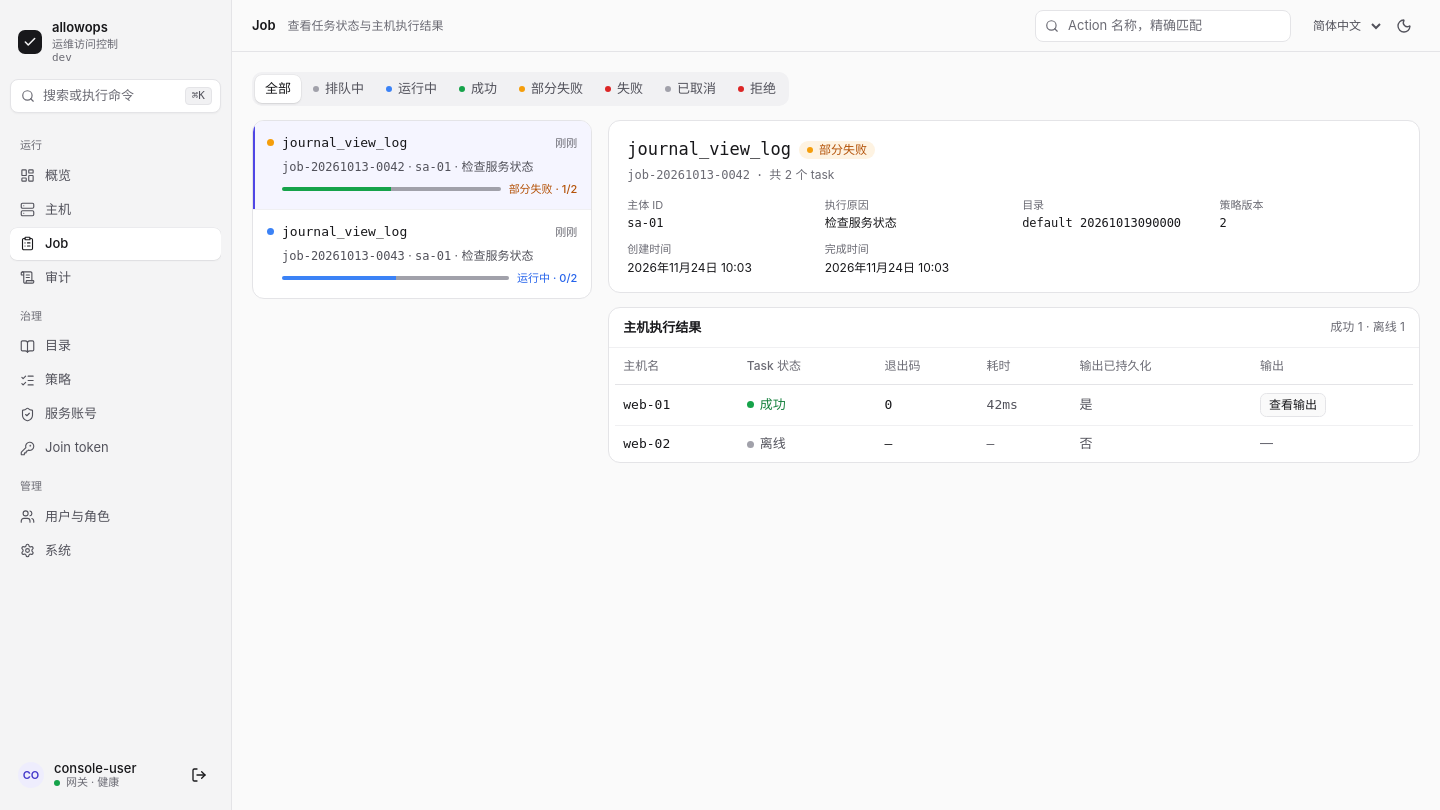
Test: job output viewer › closes the output viewer when another job is opened
Click the button with aria-label "查看输出 web-01": (1293, 404) [1260, 392, 1326, 416]
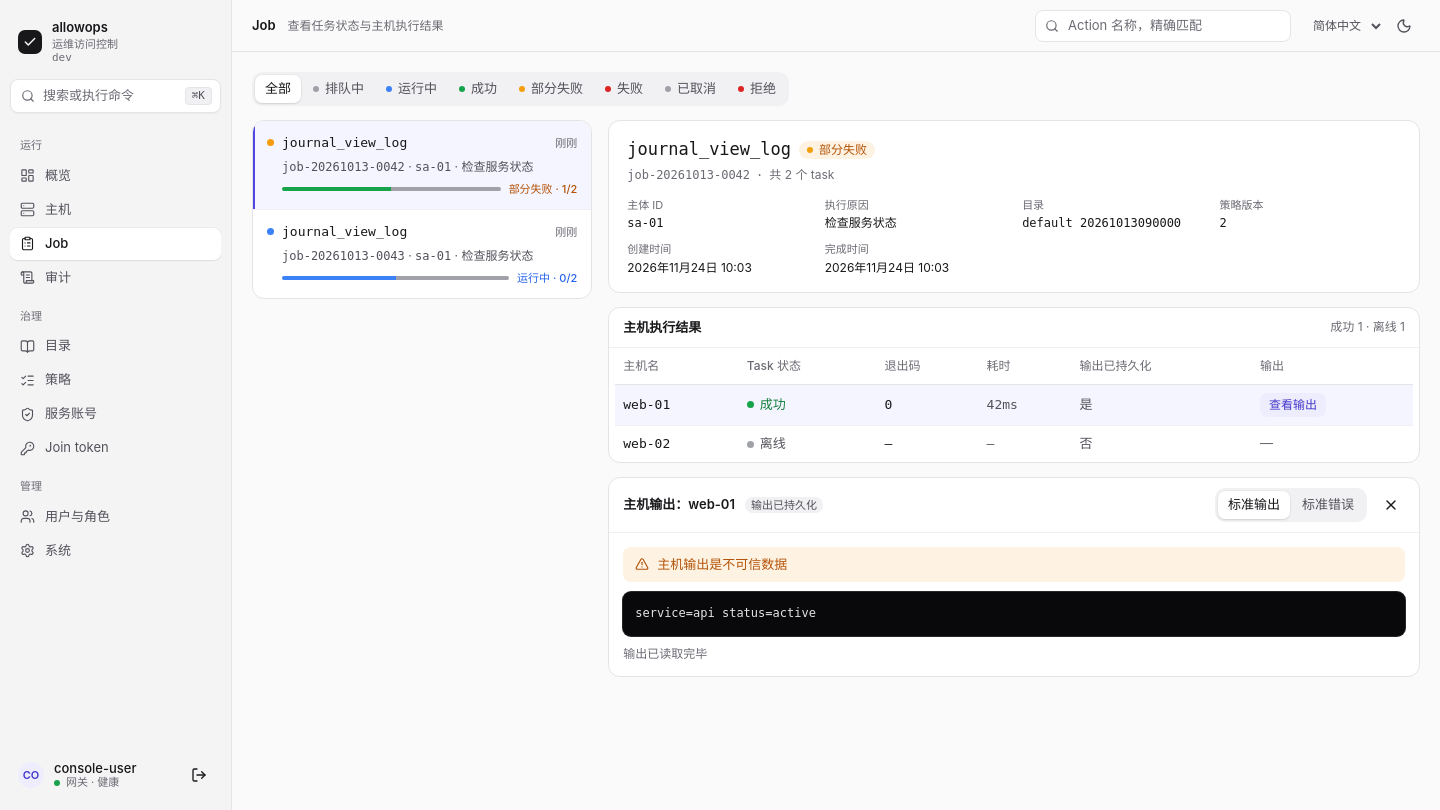
Click the link "job-20261013-0043": (422, 254) [253, 210, 591, 298]
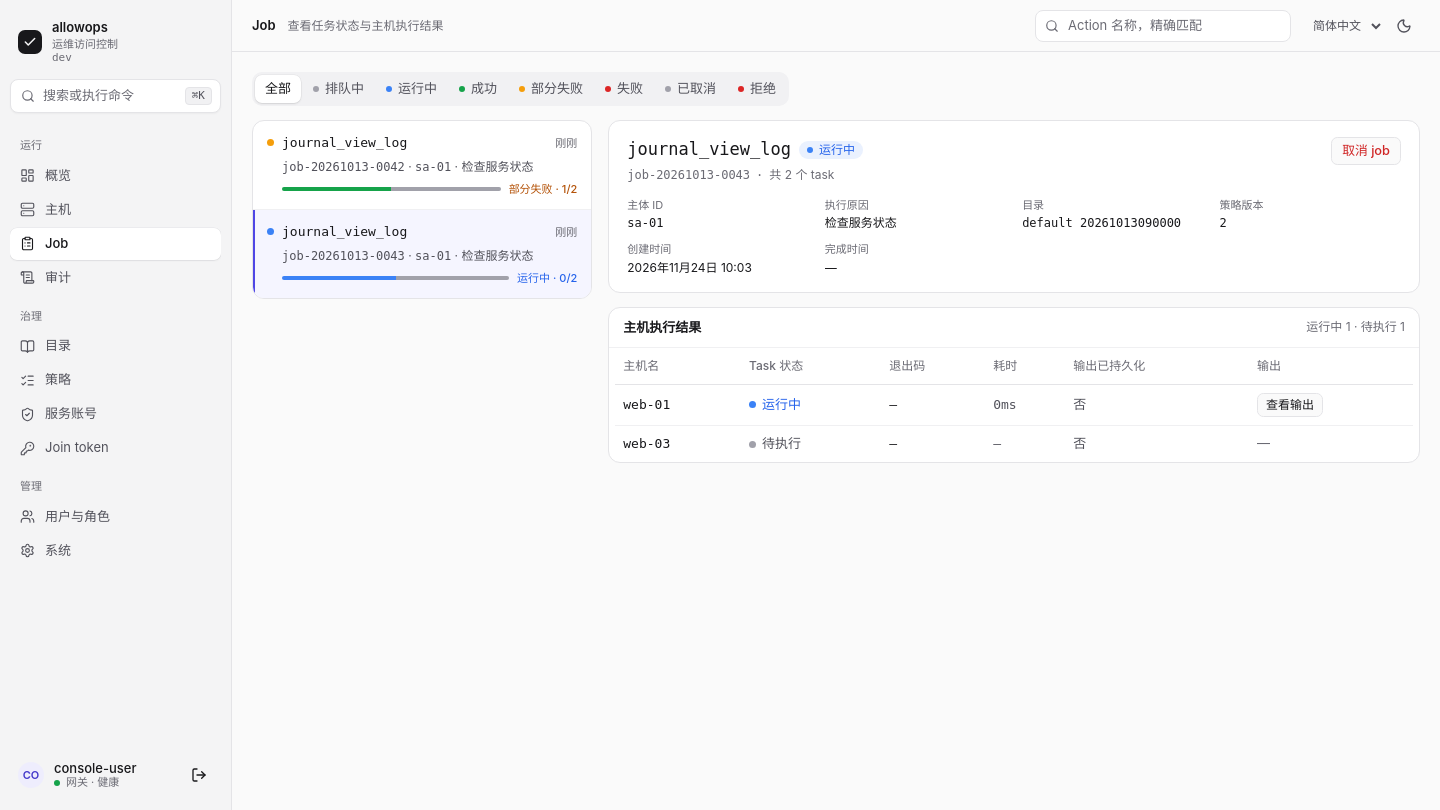
Now the heading "job-20261013-0043" is shown, box [627, 166, 750, 182]
Now the heading "主机输出" is gone
